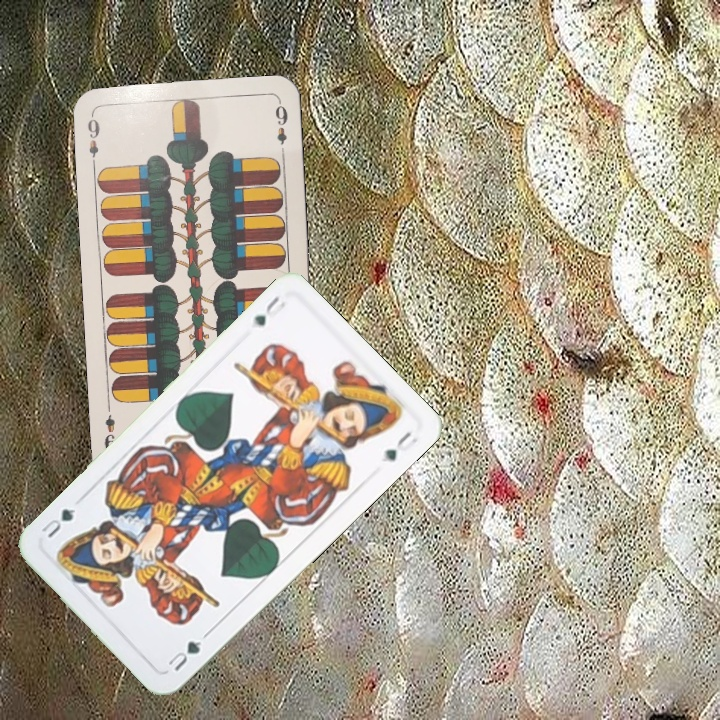E9: (83, 110, 102, 169)
GU: (164, 637, 204, 674), (250, 292, 282, 329)
